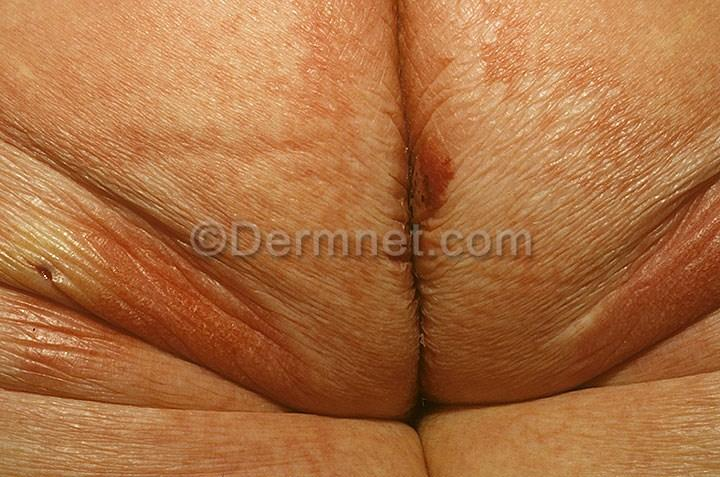Eczema: (140, 0, 390, 287), (429, 200, 587, 452), (10, 278, 189, 477), (426, 0, 589, 202), (181, 288, 393, 443), (596, 0, 720, 226), (592, 235, 720, 423)
